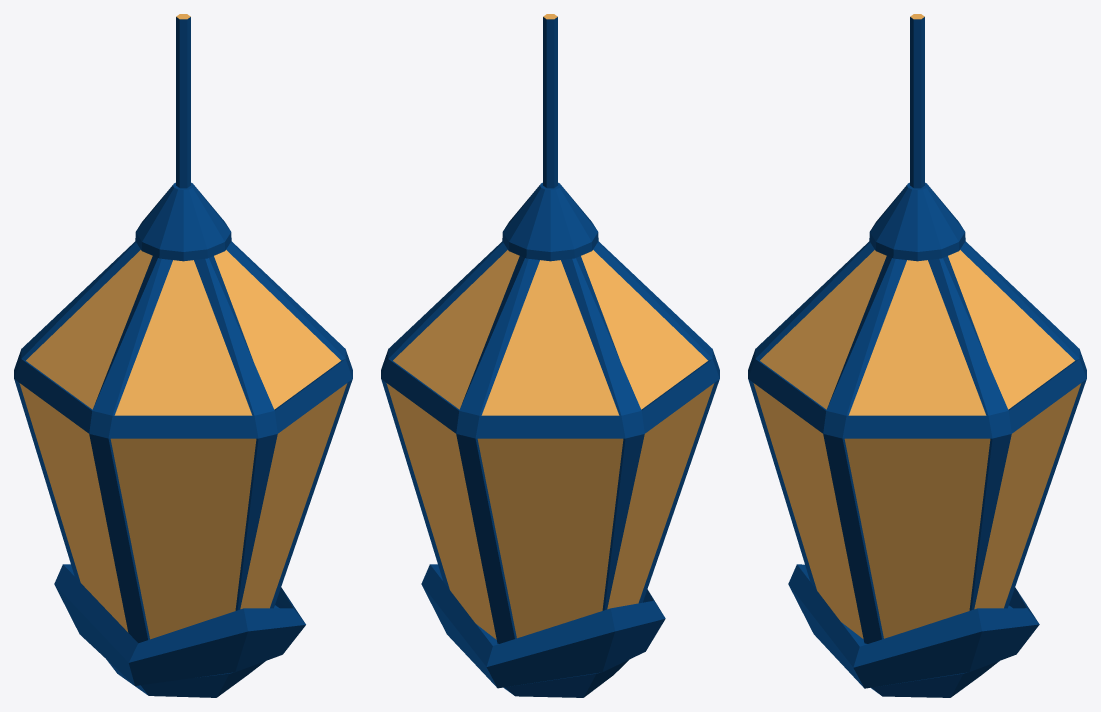
The model's file is Lamp.fbx.
3 renders of one model, left to right at view 1: azimuth 30°, elevation 25°; view 2: azimuth 150°, elevation 25°; view 3: azimuth 270°, elevation 25°, orthographic.
Parts seen in each view (by area): view 1: Cylinder, LowPoly, Cylinder.001; view 2: Cylinder, LowPoly, Cylinder.001; view 3: Cylinder, LowPoly, Cylinder.001.
Part boxes in pixels (bbox=[...]): Cylinder: bbox=[14, 14, 352, 643]; LowPoly: bbox=[54, 564, 305, 697]; Cylinder.001: bbox=[135, 182, 231, 261]; Cylinder: bbox=[381, 14, 719, 643]; LowPoly: bbox=[421, 564, 665, 697]; Cylinder.001: bbox=[502, 182, 598, 261]; Cylinder: bbox=[748, 14, 1086, 643]; LowPoly: bbox=[788, 564, 1039, 697]; Cylinder.001: bbox=[869, 182, 965, 261].
Size of the model in its own units: 37.83 by 90.09 by 42.09.
